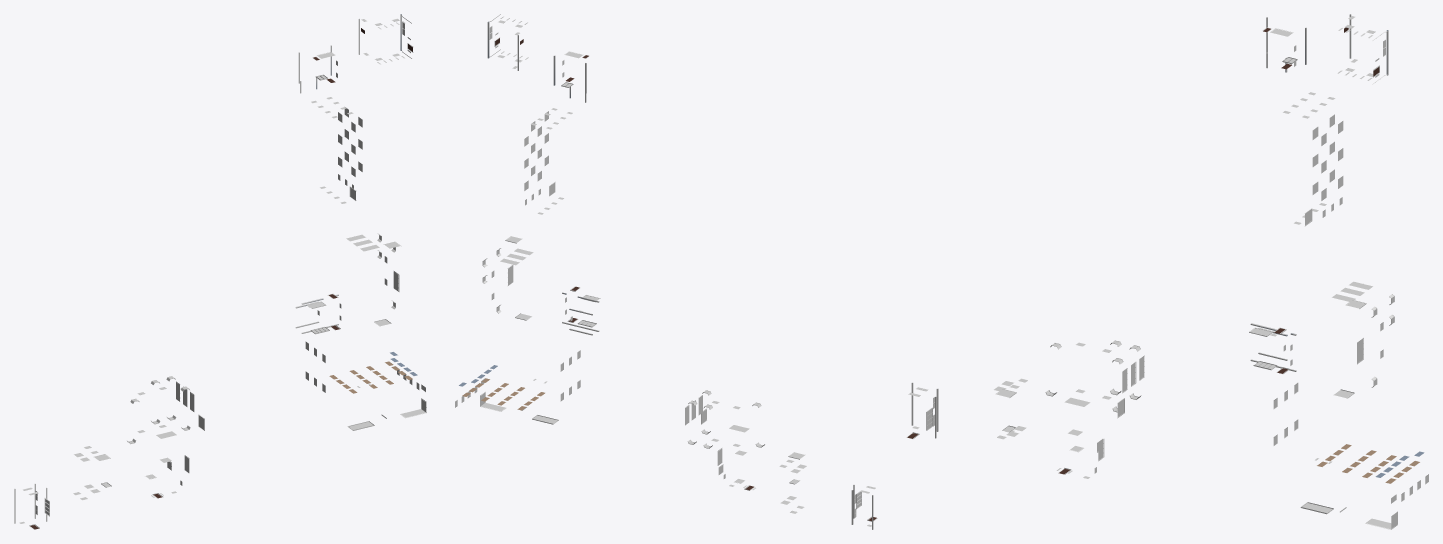
3 views of the same model, side by side, from view 1: azimuth 30°, elevation 25°; view 2: azimuth 150°, elevation 25°; view 3: azimuth 330°, elevation 25° (orthographic). The views are drawn at different scales.
Visible parts, largest first — view 1: SM_000295.001; view 2: SM_000295.001; view 3: SM_000295.001.
Part boxes in pixels (box(x1,y1,x2,y2)): SM_000295.001: box(14, 14, 426, 529); SM_000295.001: box(455, 14, 877, 529); SM_000295.001: box(906, 14, 1428, 529).
Bounding box in the file's own units: 94.47 × 93.46 × 12.89.
